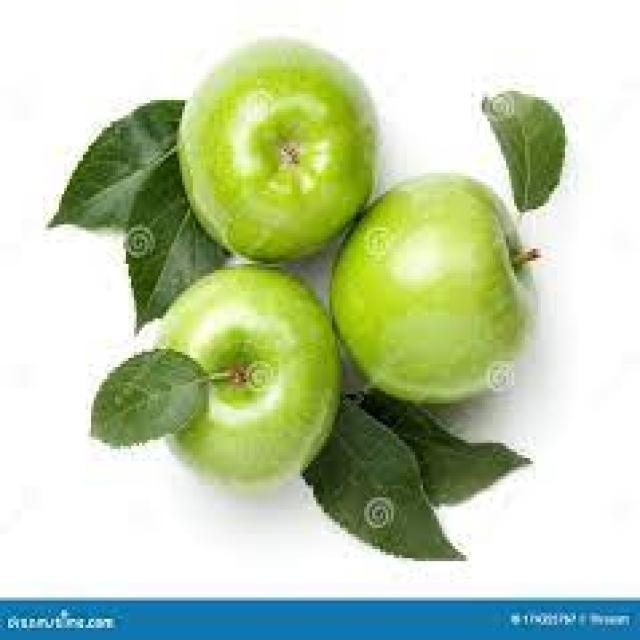non_orange: (310, 148, 562, 422), (115, 231, 358, 495), (139, 17, 387, 275)
